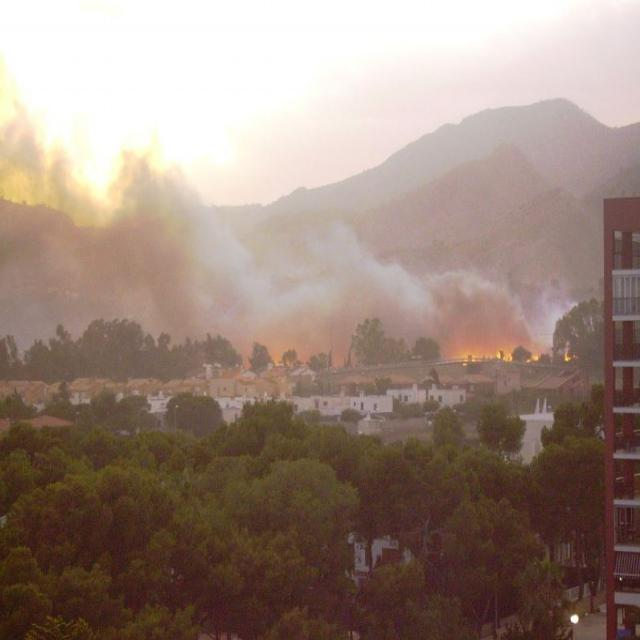Fire: (464, 349, 513, 362), (529, 348, 539, 363)
